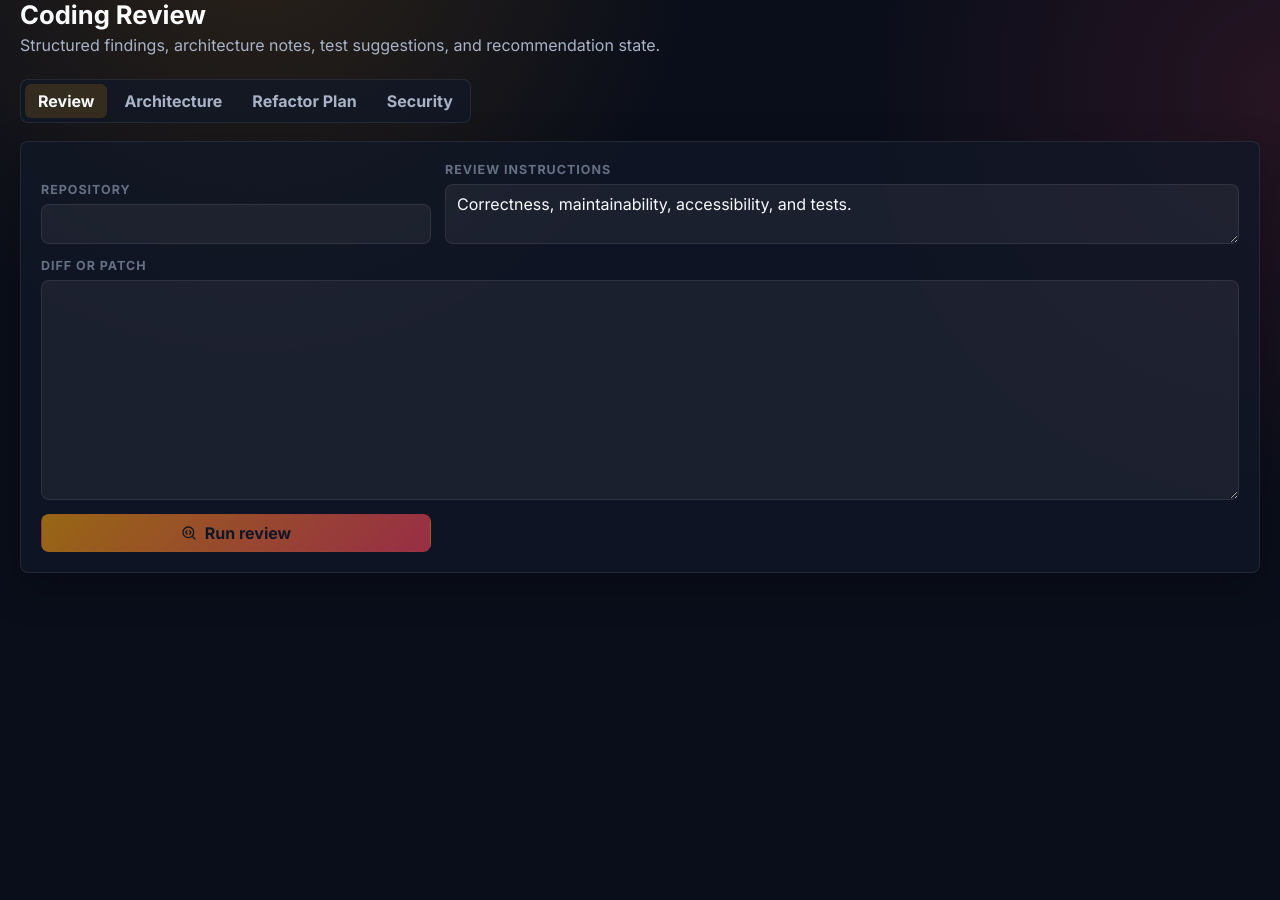
PR3 tool pages › submits the Refactor plan coding variant
Click the button "Refactor plan".
click(304, 101)  # box x1=239 y1=84 x2=370 y2=118
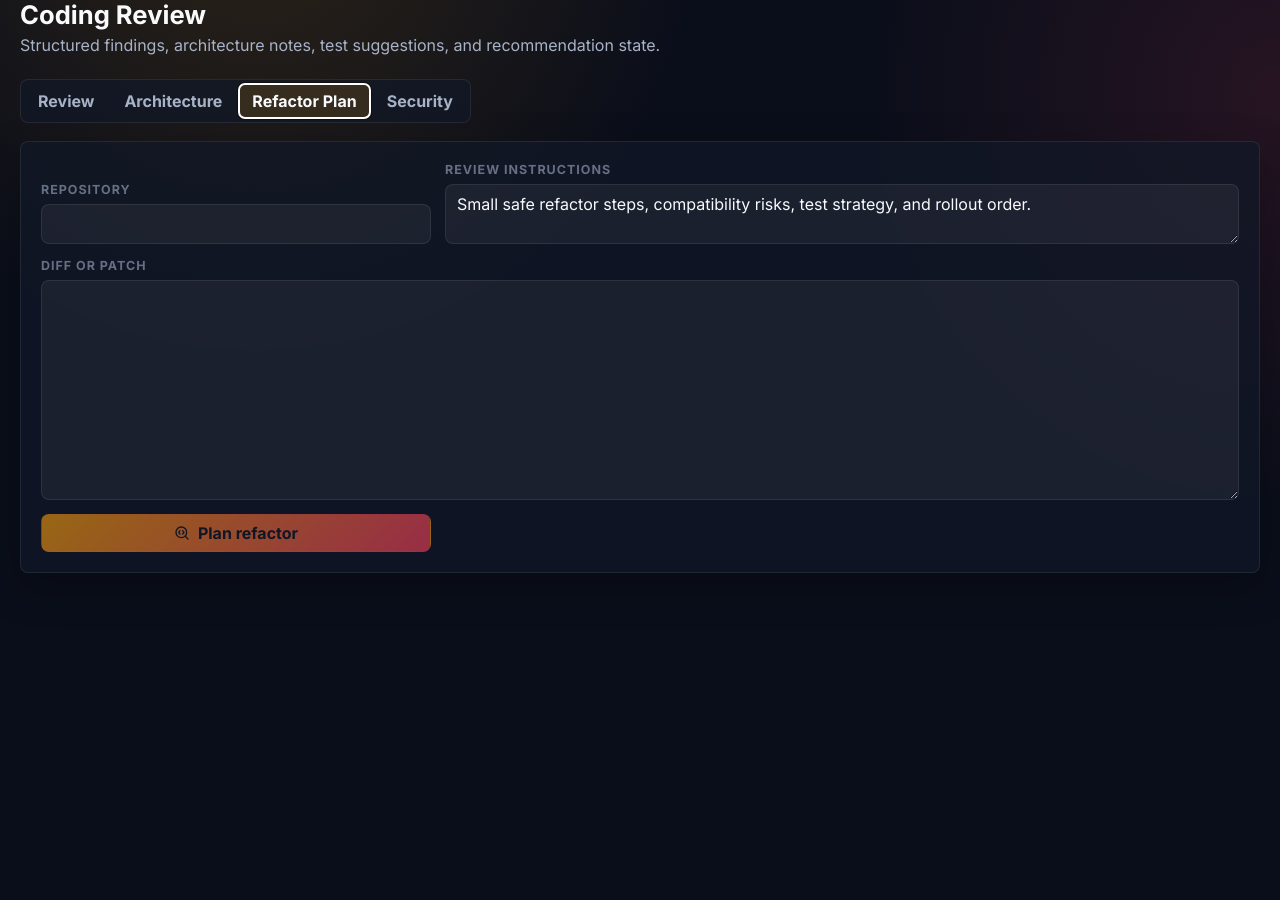
Type "diff --git a/file.ts b/file.ts" into the text box labelled "Diff or patch".
click(640, 390); type("diff --git a/file.ts b/file.ts")  # box x1=41 y1=280 x2=1239 y2=500
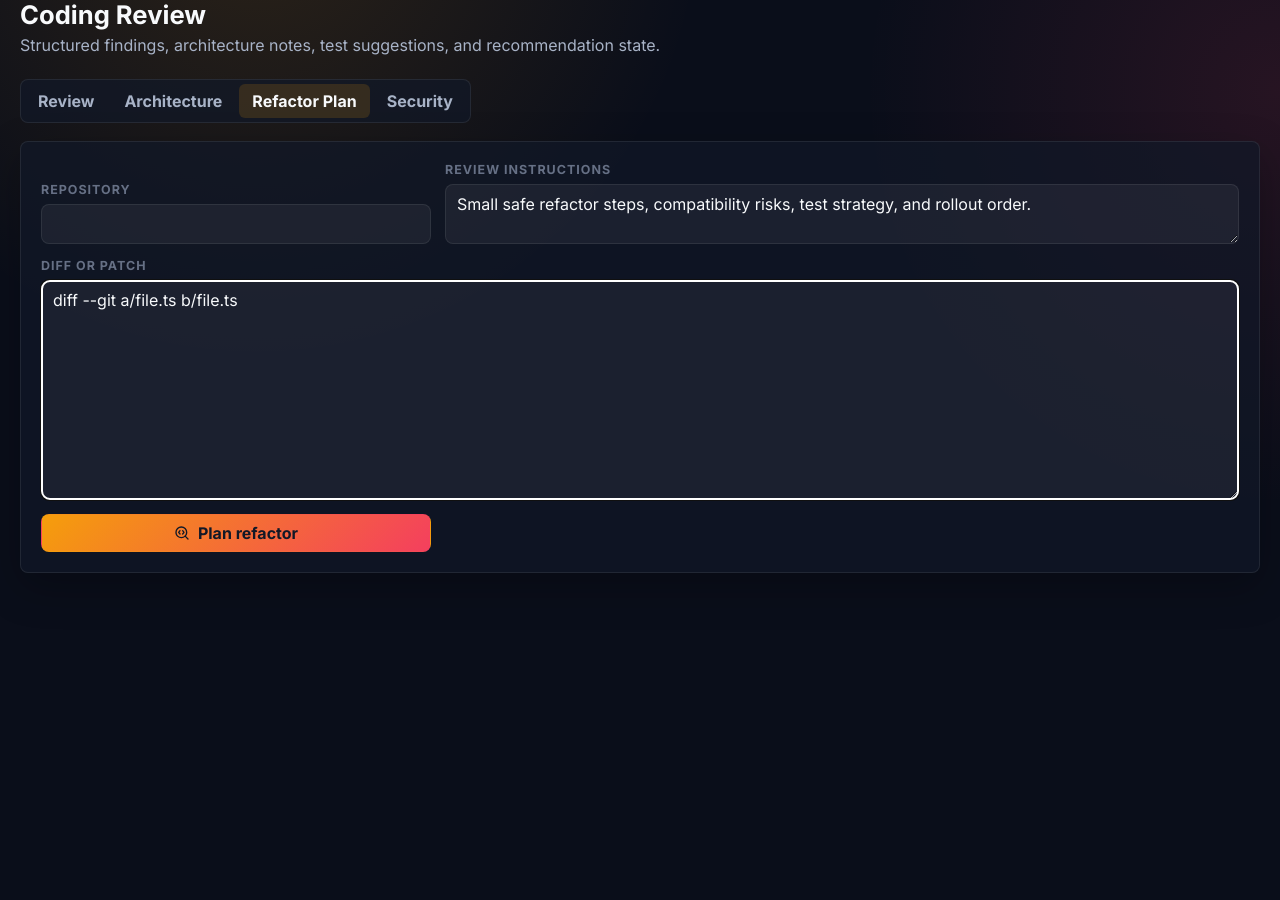
Click the button "Plan refactor".
click(236, 533)  # box x1=41 y1=514 x2=431 y2=552
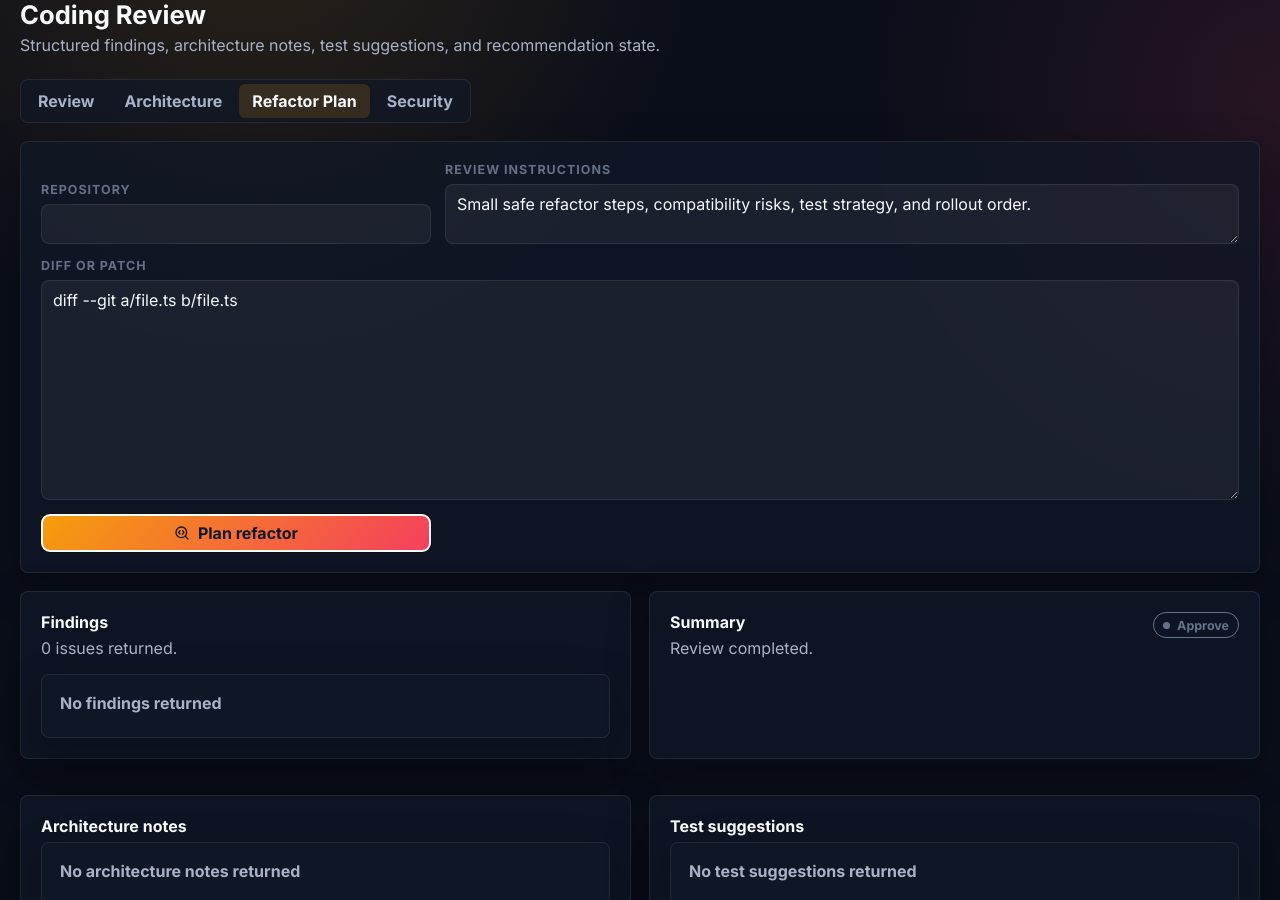
expect the text "approve" is shown: met, box x1=1153 y1=612 x2=1239 y2=638
